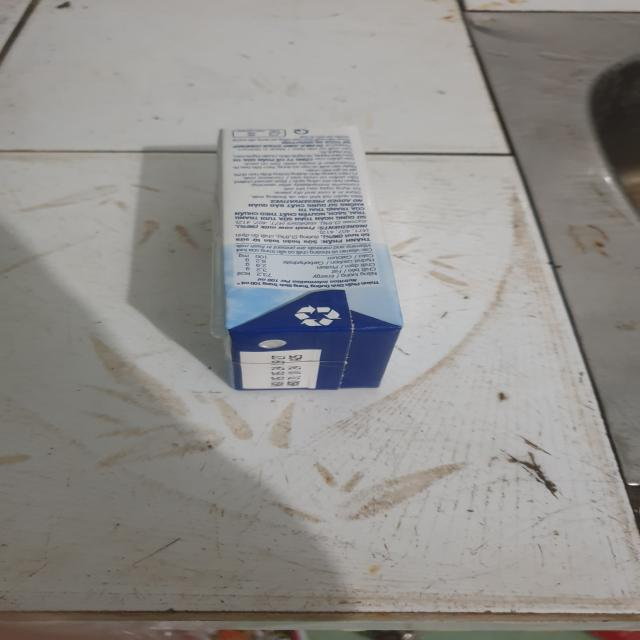TH: (224, 133, 407, 391)
